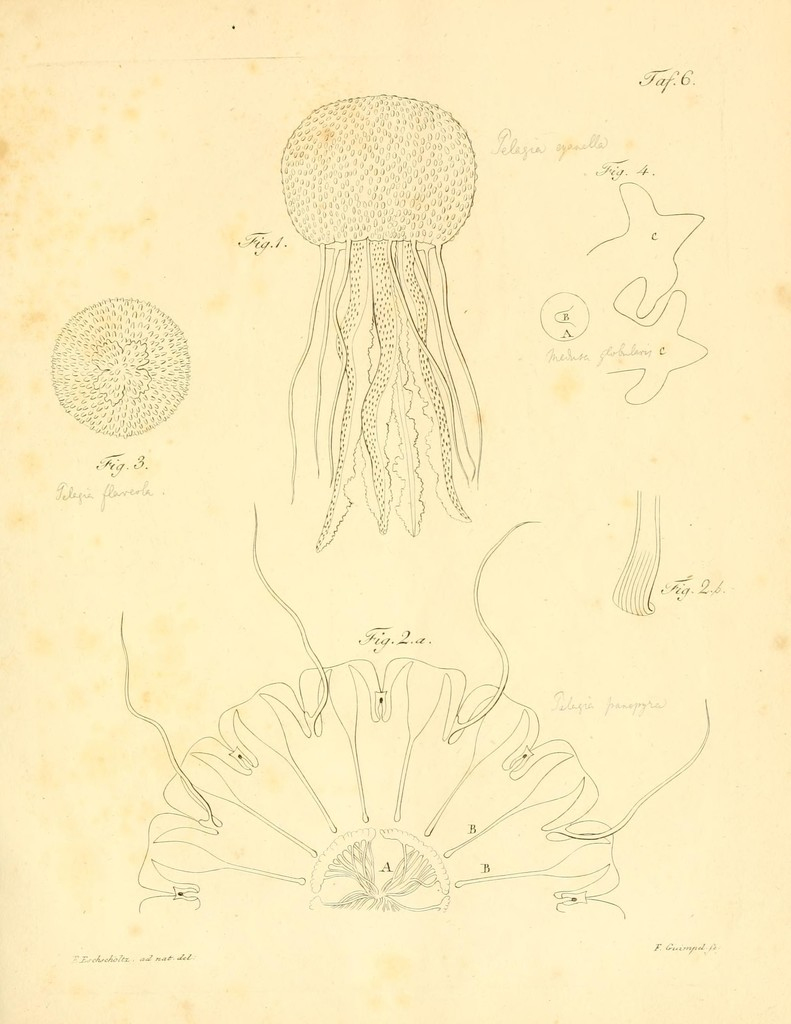Jellyfish: (278, 95, 483, 552)
